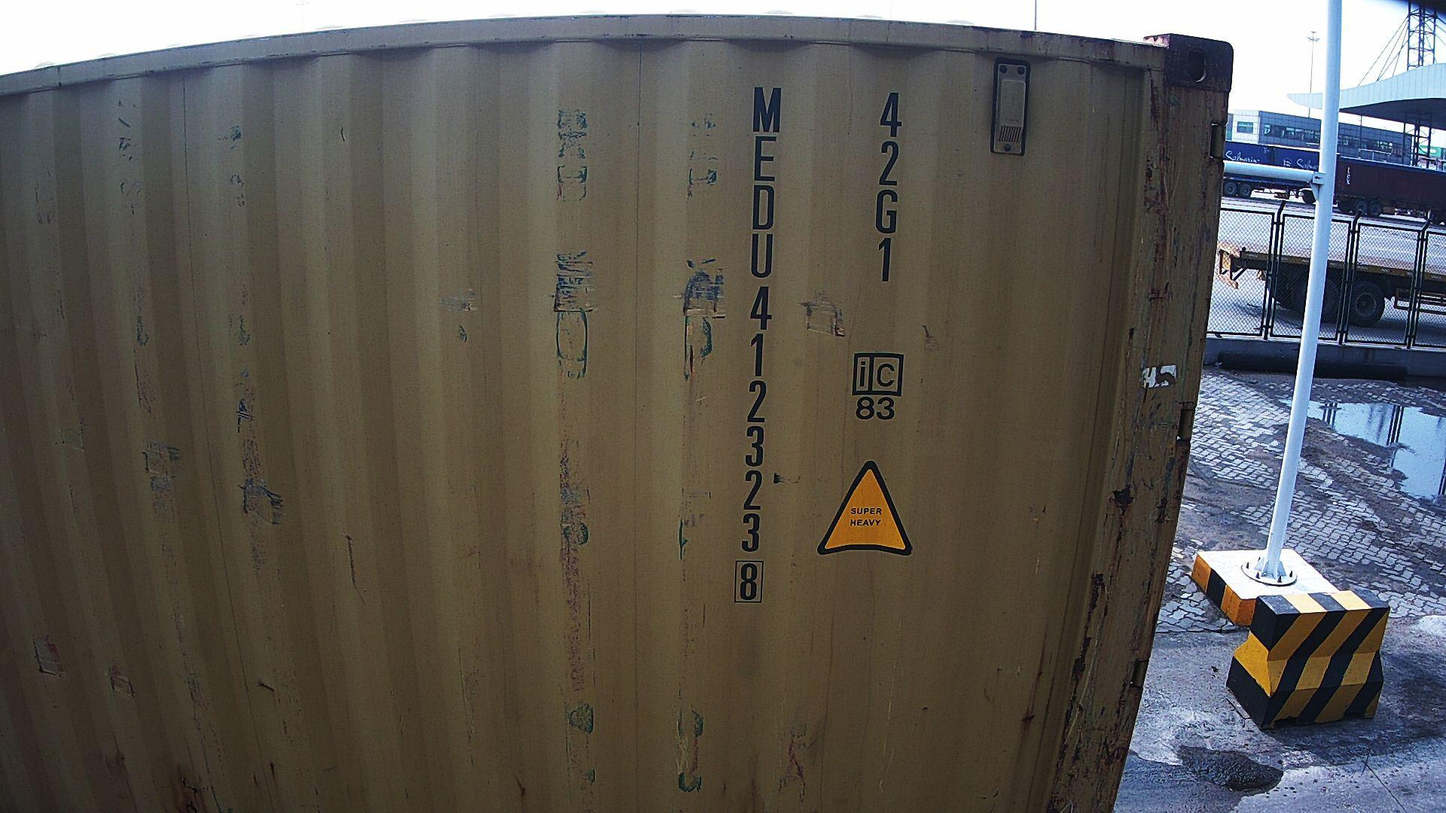container-numbers: (729, 84, 787, 612), (866, 88, 909, 288)
